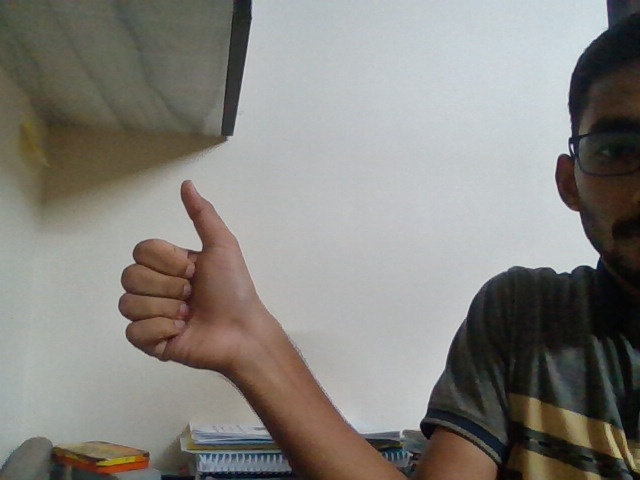Yes: (101, 166, 281, 408)
